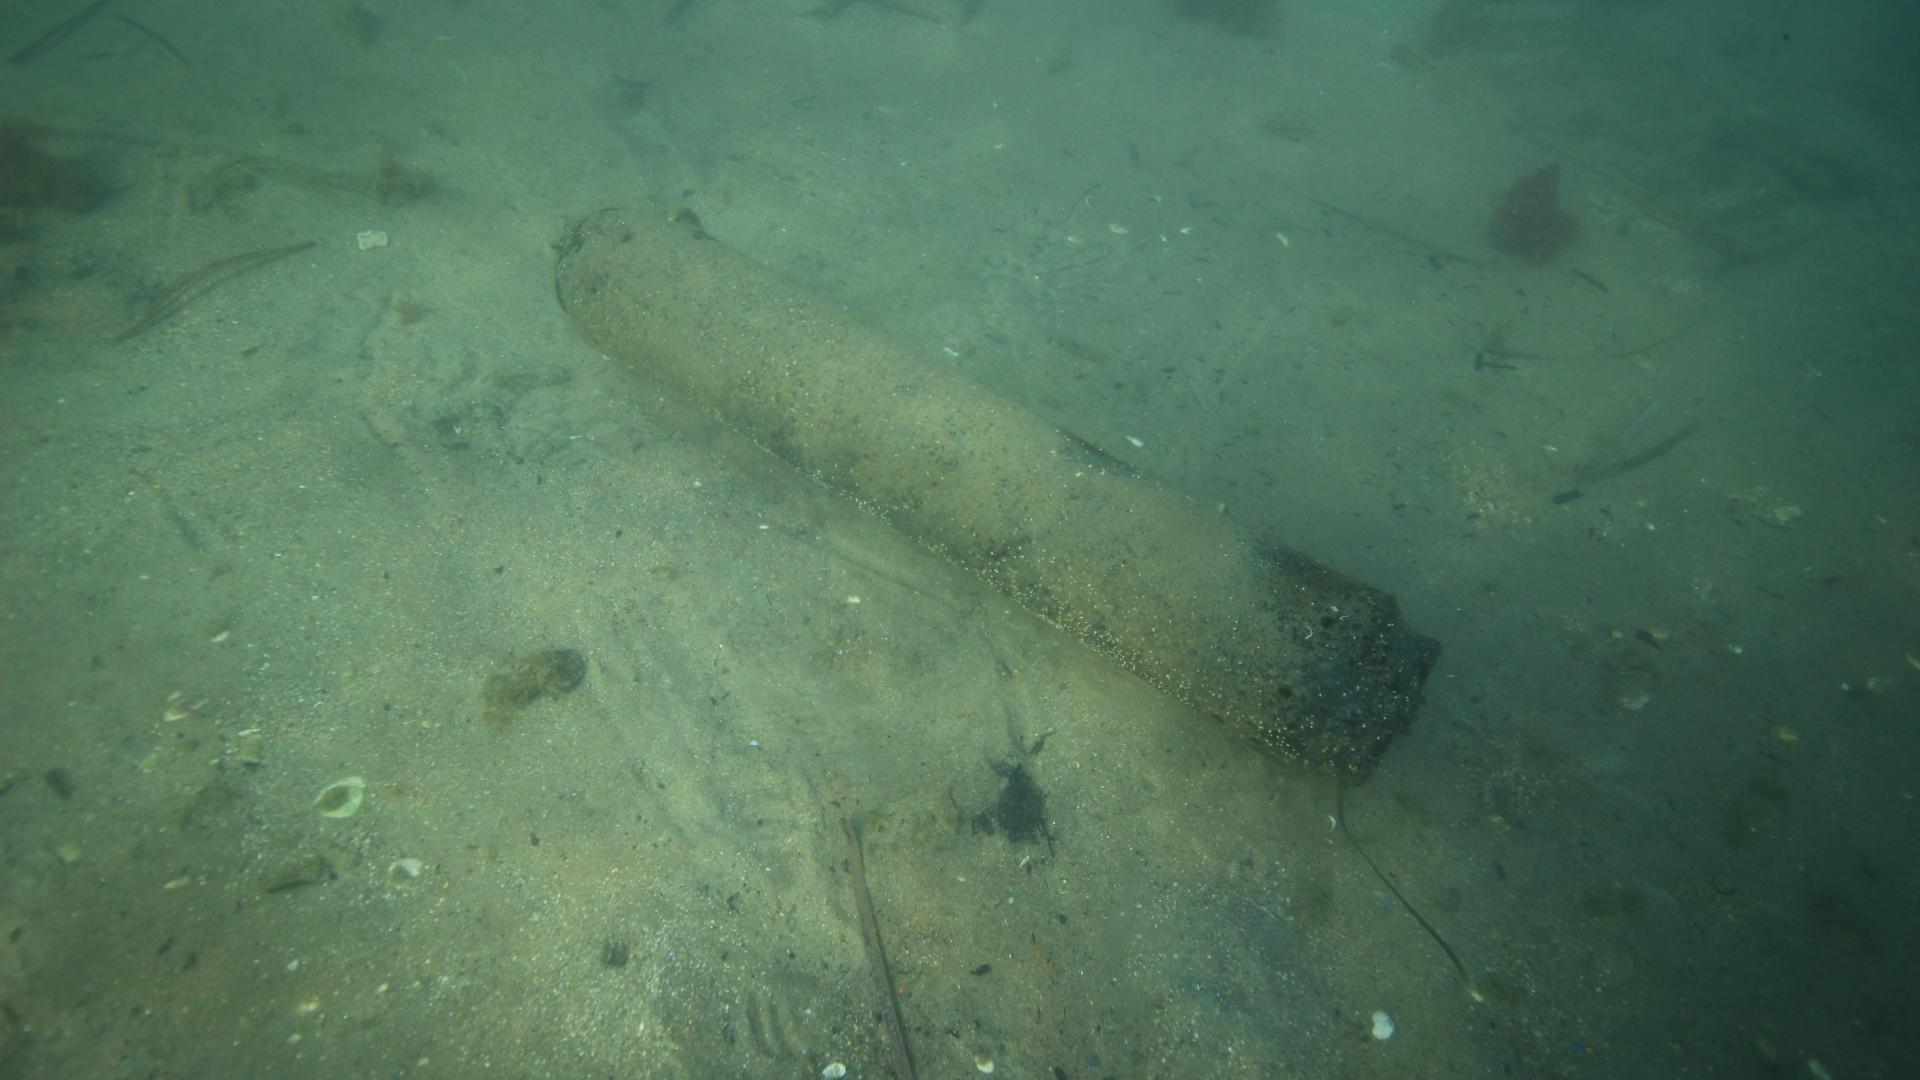eel fish trap: (543, 196, 1445, 785)
